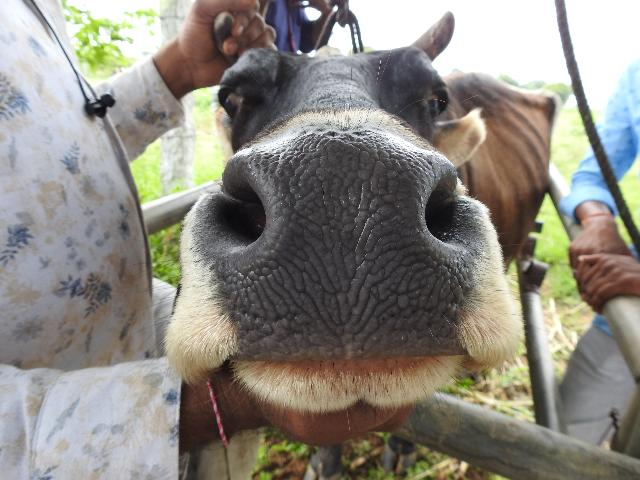Muzzle: (259, 141, 423, 337)
